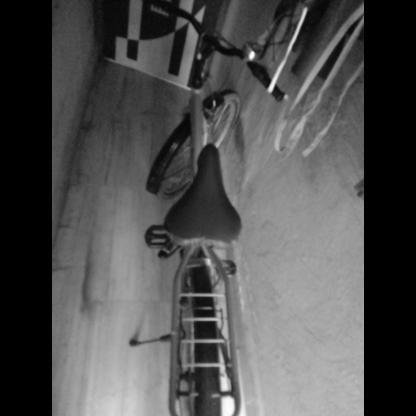Bicycle: (117, 0, 301, 415)
